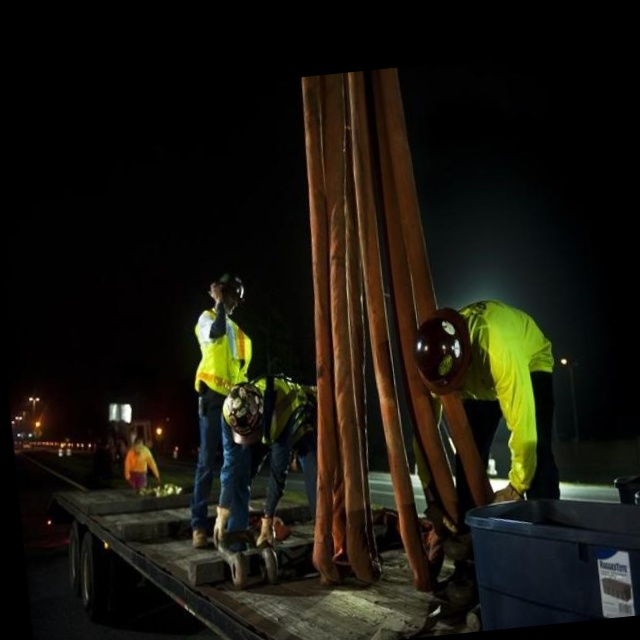Con_Casco: (409, 305, 476, 398)
Con_Chaleco: (194, 312, 254, 385)
